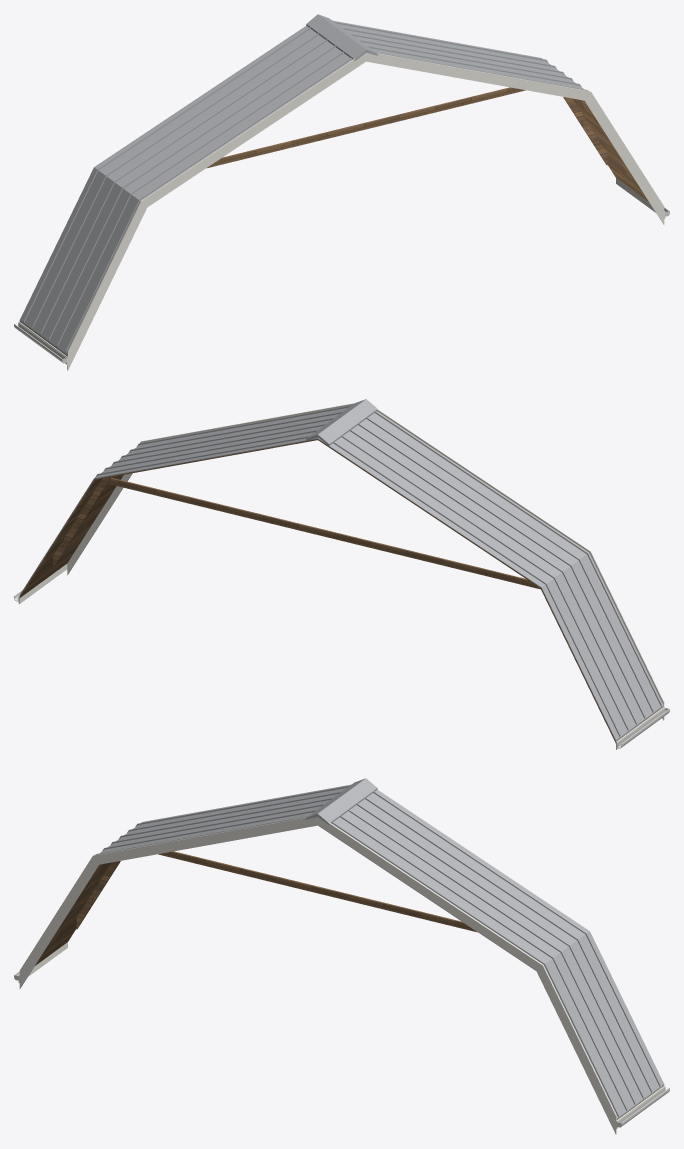
Rendered from barn_roof_end.glb.
3 views of the same model, one above another, from view 1: azimuth 30°, elevation 25°; view 2: azimuth 150°, elevation 25°; view 3: azimuth 330°, elevation 25° (orthographic).
Visible parts, largest first — view 1: barn_roof_end_metal, barn_roof_end_trim, barn_roof_end_planks; view 2: barn_roof_end_metal, barn_roof_end_planks, barn_roof_end_trim; view 3: barn_roof_end_metal, barn_roof_end_trim, barn_roof_end_planks.
Boxes of the visible parts, box(x1,y1,x2,y2) form: barn_roof_end_metal: box(19, 14, 588, 355); barn_roof_end_trim: box(18, 53, 665, 370); barn_roof_end_planks: box(20, 87, 648, 355); barn_roof_end_metal: box(19, 399, 663, 741); barn_roof_end_planks: box(19, 439, 660, 743); barn_roof_end_trim: box(18, 403, 665, 749); barn_roof_end_metal: box(95, 778, 664, 1119); barn_roof_end_trim: box(18, 817, 665, 1134); barn_roof_end_planks: box(35, 851, 663, 1119).
Bounding box in the file's own units: 16.92 × 6.61 × 2.34.
Materials: 4 (1 with a texture image).
